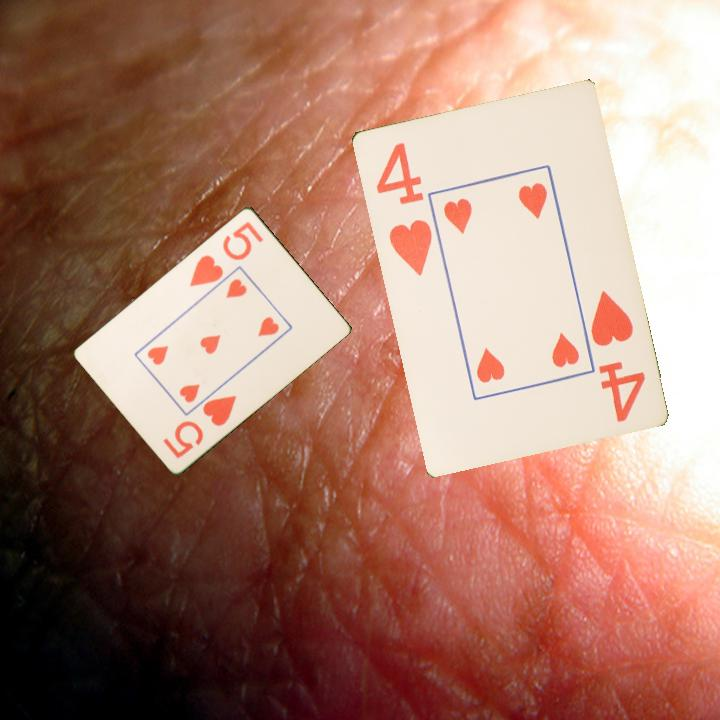4h: (372, 138, 435, 278), (586, 286, 648, 425)
5h: (186, 217, 267, 289), (159, 391, 240, 461)
